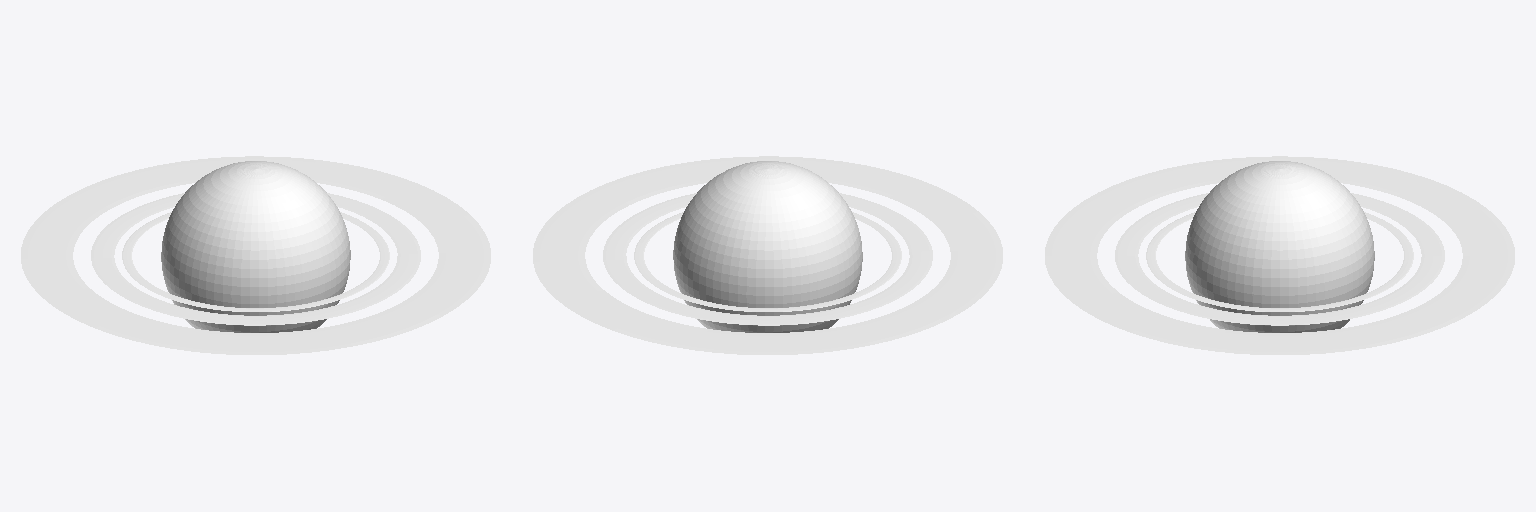
File: MagicalPlanet.obj
The picture shows the model from 3 angles: view 1: azimuth 30°, elevation 25°; view 2: azimuth 150°, elevation 25°; view 3: azimuth 270°, elevation 25°; orthographic projection.
Visible parts, largest first — view 1: Rings_Sphere.002, Gas_Giant_Sphere.001; view 2: Rings_Sphere.002, Gas_Giant_Sphere.001; view 3: Rings_Sphere.002, Gas_Giant_Sphere.001.
Boxes of the visible parts, x1=… form: Rings_Sphere.002: x1=21, y1=156, x2=490, y2=354; Gas_Giant_Sphere.001: x1=161, y1=161, x2=350, y2=332; Rings_Sphere.002: x1=533, y1=156, x2=1002, y2=354; Gas_Giant_Sphere.001: x1=673, y1=161, x2=862, y2=332; Rings_Sphere.002: x1=1045, y1=156, x2=1514, y2=354; Gas_Giant_Sphere.001: x1=1185, y1=161, x2=1374, y2=332.
Size of the model in its own units: 4.91 by 2 by 4.91.